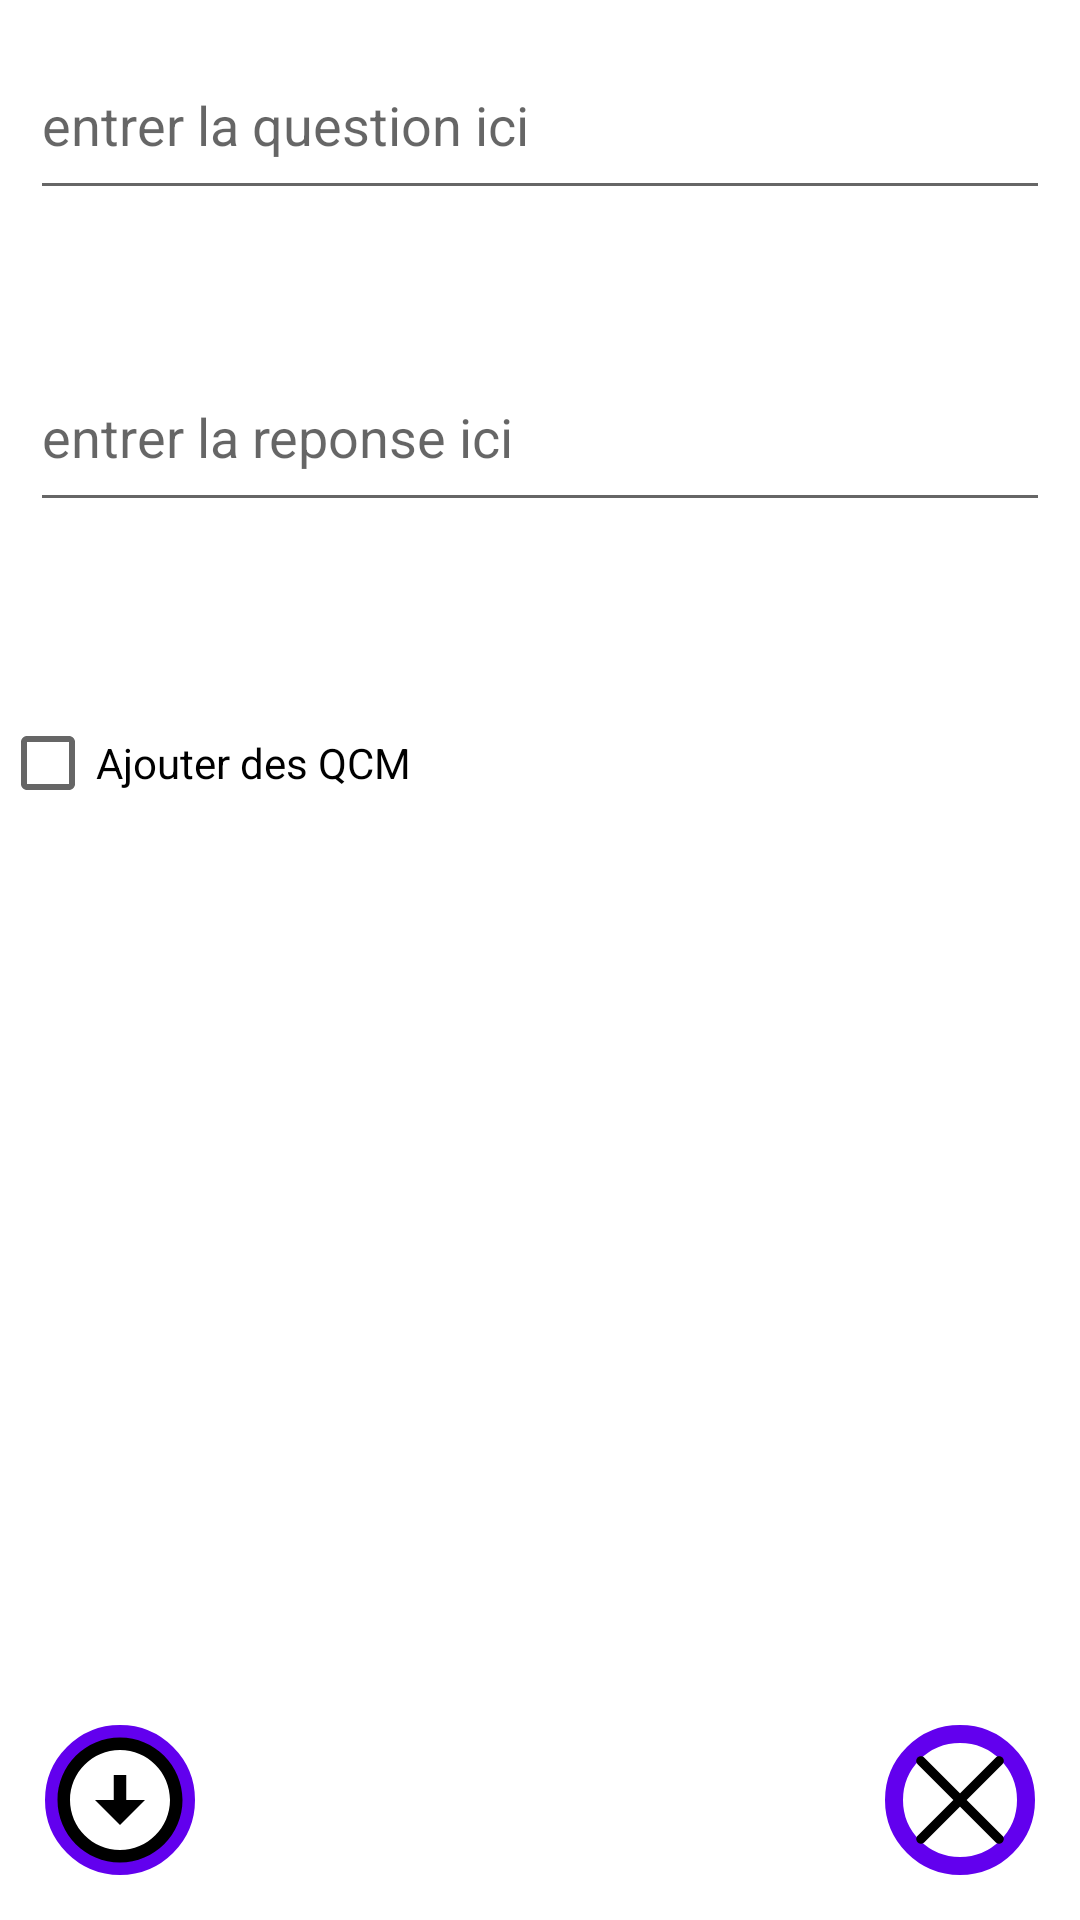

Icons on this 1080 × 1920 Android screen, each with the point to tap as (x=x, y=y):
close: (x=960, y=1800)
download: (x=120, y=1800)
